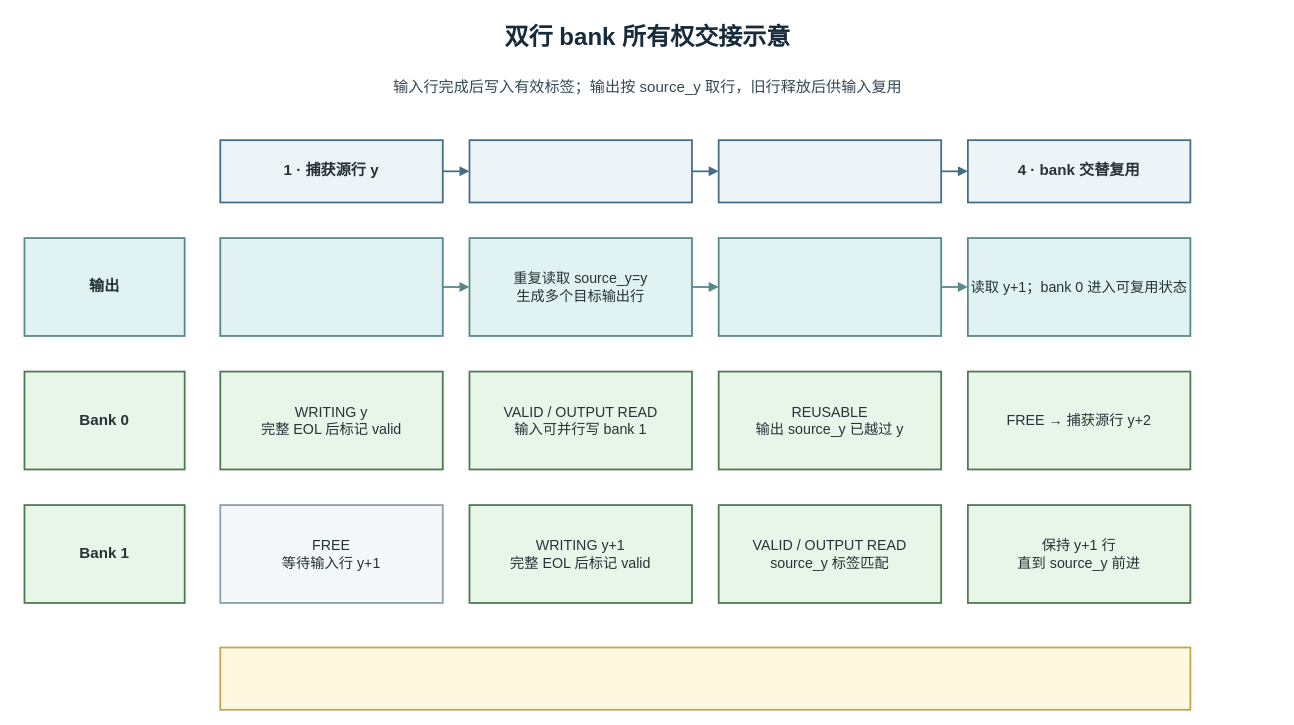
Some shapes in this 1294 by 725 pixel diagram are drawn without their labels. Here are the shapes that lost their labels. From the top down, the box of each, then its label:
(468, 139, 692, 203): 2 · 输出重复行 y
(717, 139, 942, 203): 3 · source_y 前进
(219, 237, 443, 336): 按 x-DDA 从 bank 0 读取 source_y=y
(717, 237, 942, 336): source_y → y+1 输出切到 bank 1
(219, 646, 1191, 710): 示意展示纵向缩放时源行重复与 bank 释放。行标签在完整输入行结束后生效；输入只写入可复用 bank，输出读取与 source_y 匹配的有效行。
